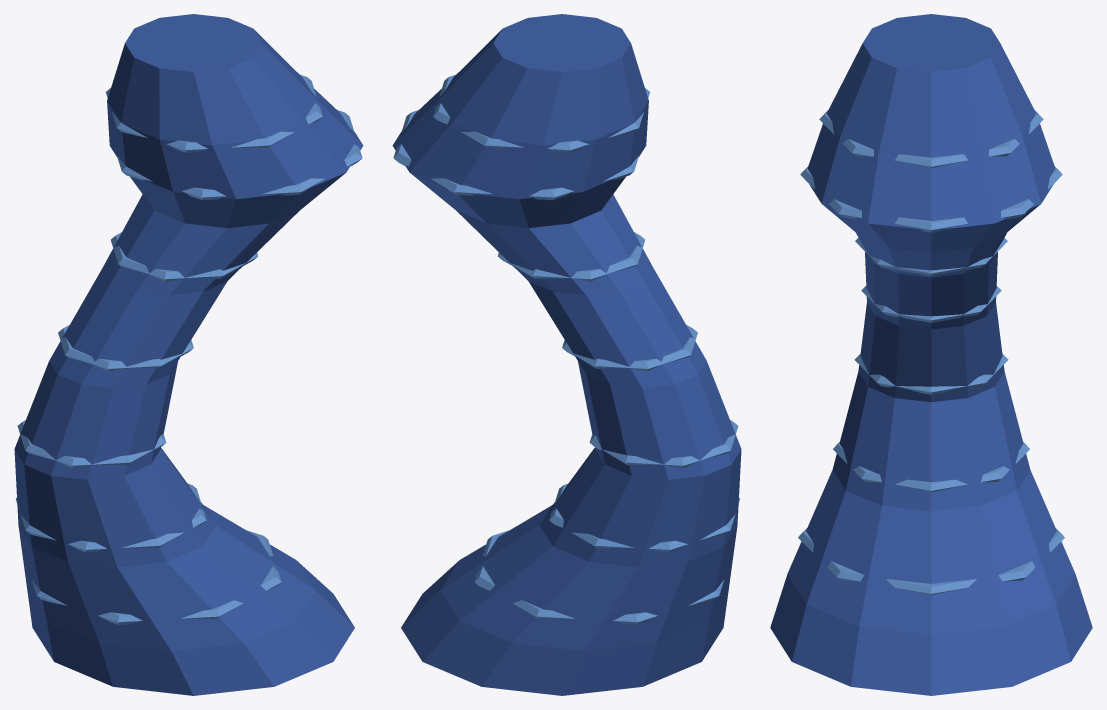
Rendered from CobaltPalmTrunk.glb.
3 renders of one model, left to right at view 1: azimuth 30°, elevation 25°; view 2: azimuth 150°, elevation 25°; view 3: azimuth 270°, elevation 25°, orthographic.
Visible parts, largest first — view 1: CobaltPalmTrunk_CobaltPalmBark, CobaltPalmTrunk_PalmGrowthRings; view 2: CobaltPalmTrunk_CobaltPalmBark, CobaltPalmTrunk_PalmGrowthRings; view 3: CobaltPalmTrunk_CobaltPalmBark, CobaltPalmTrunk_PalmGrowthRings.
Part boxes in pixels (x1,y1,x2,y2): CobaltPalmTrunk_CobaltPalmBark: (14,14,363,695); CobaltPalmTrunk_PalmGrowthRings: (16,74,362,624); CobaltPalmTrunk_CobaltPalmBark: (392,14,741,695); CobaltPalmTrunk_PalmGrowthRings: (393,74,739,624); CobaltPalmTrunk_CobaltPalmBark: (770,14,1092,695); CobaltPalmTrunk_PalmGrowthRings: (798,110,1064,594).
Size of the model in its own units: 1.75 by 3 by 1.5.
